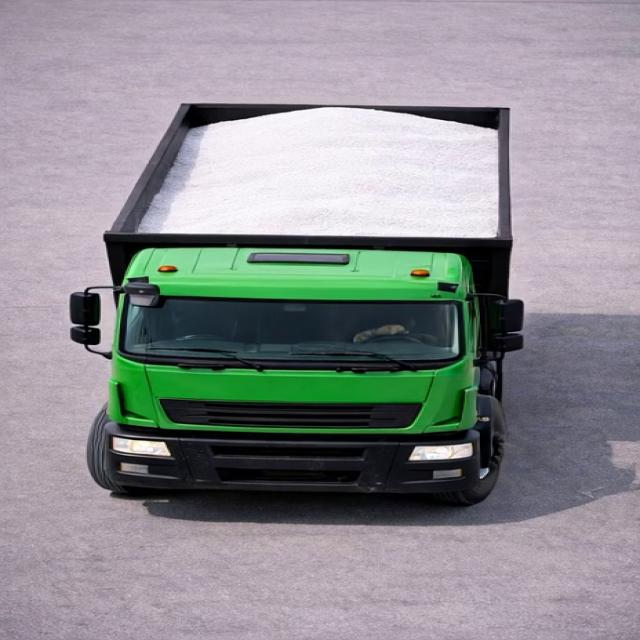trailer: (103, 100, 531, 250)
truck: (64, 86, 536, 512)
